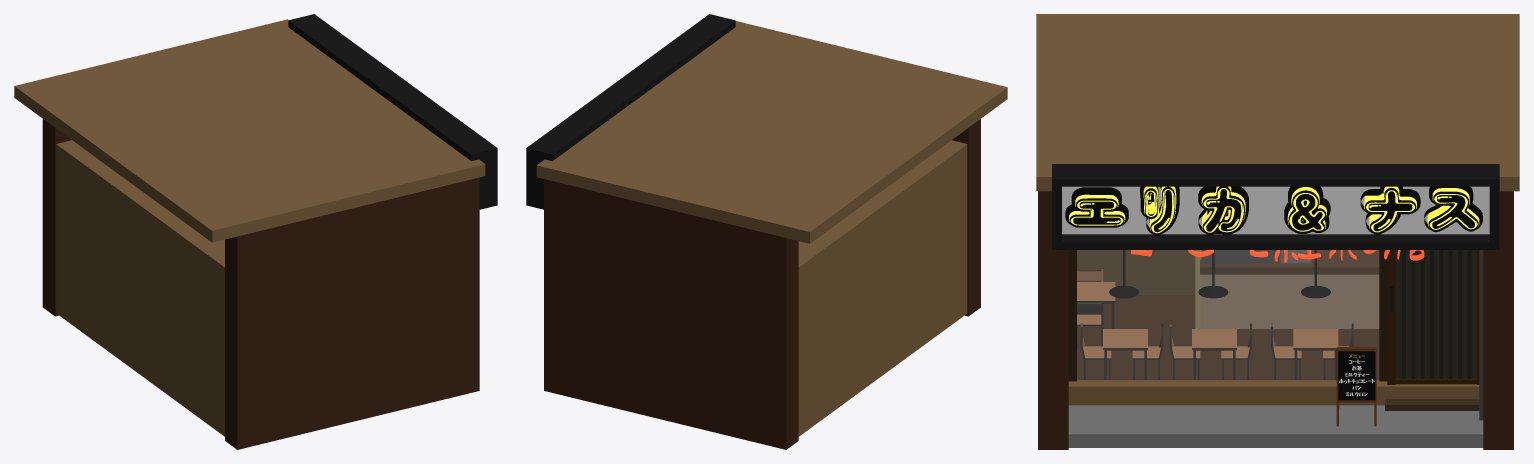
The model's file is NathEriCoffeeShop.fbx.
3 renders of one model, left to right at view 1: azimuth 30°, elevation 25°; view 2: azimuth 150°, elevation 25°; view 3: azimuth 270°, elevation 25°, orthographic. The views are drawn at different scales.
Parts seen in each view (by area): view 1: Cube.012, Cube.001, Cube.053; view 2: Cube.012, Cube.001, Cube.053; view 3: Cube.012, Cube.053, Cube.007, Cube, Cube.001, Cube.014, Plane, Cube.002, Cube.005, Cube.009, Cube.055, Cube.015 (+14 smaller).
Boxes of the visible parts, x1,y1,x2,y2 form: Cube.012: (14,19,485,436); Cube.001: (42,119,479,449); Cube.053: (288,14,497,209); Cube.012: (536,21,1007,436); Cube.001: (544,119,980,449); Cube.053: (526,14,735,209); Cube.012: (1036,14,1519,294); Cube.053: (1052,164,1499,249); Cube.007: (1077,250,1379,379); Cube: (1068,405,1483,447); Cube.001: (1038,191,1513,449); Cube.014: (1200,250,1379,328); Plane: (1077,295,1379,379); Cube.002: (1068,380,1479,405); Cube.005: (1387,250,1479,384); Cube.009: (1395,250,1476,377); Cube.055: (1336,347,1376,426); Cube.015: (1293,329,1338,379).
Size of the model in its own units: 5.89 by 4.48 by 6.9.
